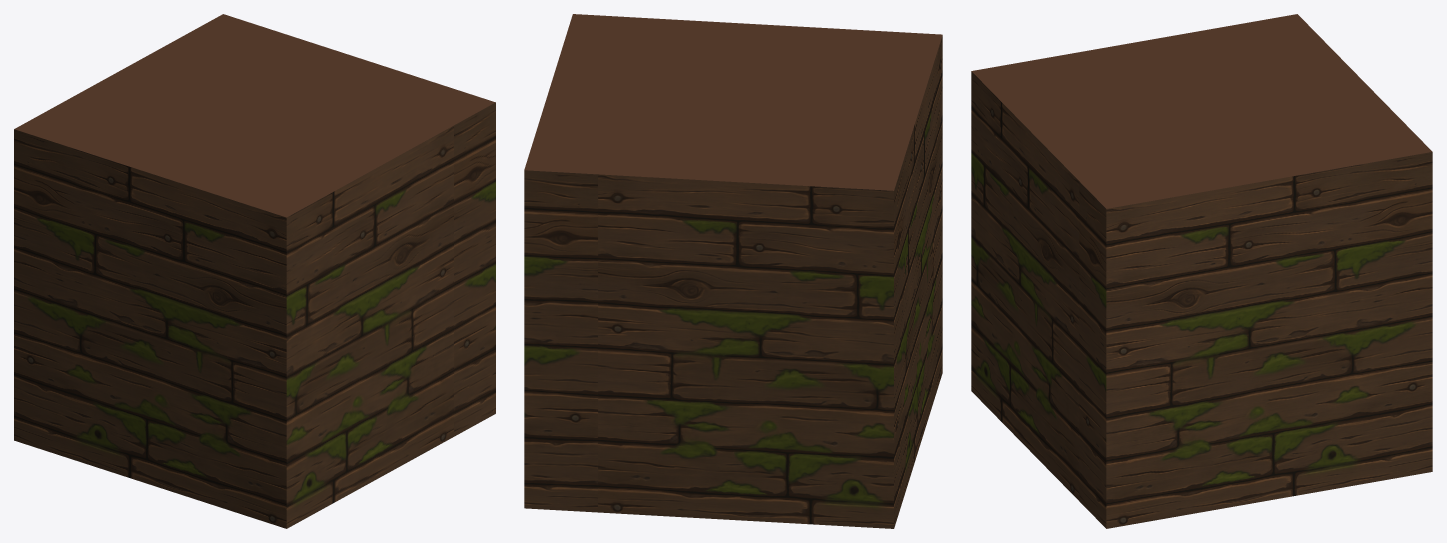
The model's file is blocco_uv.fbx.
The picture shows the model from 3 angles, left to right: view 1: azimuth 30°, elevation 25°; view 2: azimuth 150°, elevation 25°; view 3: azimuth 270°, elevation 25°; orthographic projection. The views are drawn at different scales.
Parts seen in each view (by area): view 1: Muro_dritto.005; view 2: Muro_dritto.005; view 3: Muro_dritto.005.
Part boxes in pixels (left/top/right/bottom): Muro_dritto.005: left=14, top=14, right=495, bottom=528; Muro_dritto.005: left=524, top=14, right=942, bottom=528; Muro_dritto.005: left=971, top=14, right=1432, bottom=528.
Size of the model in its own units: 261 by 200 by 261.
2 materials, 2 textured.
